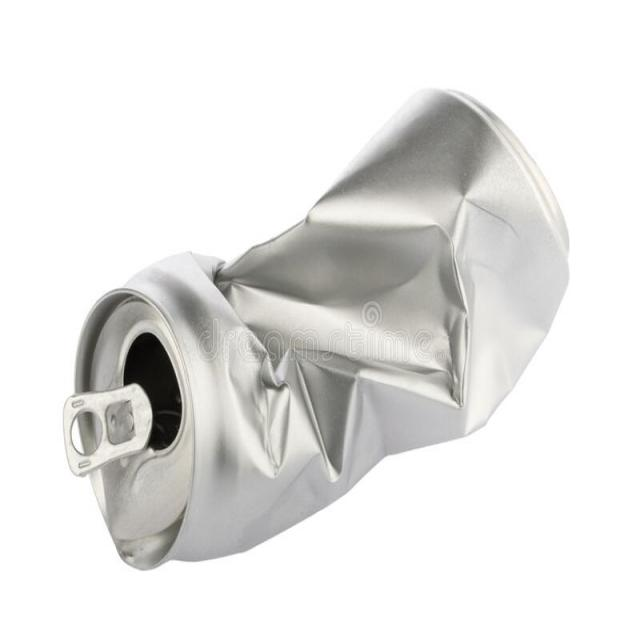non-organic waste: (35, 75, 582, 608)
